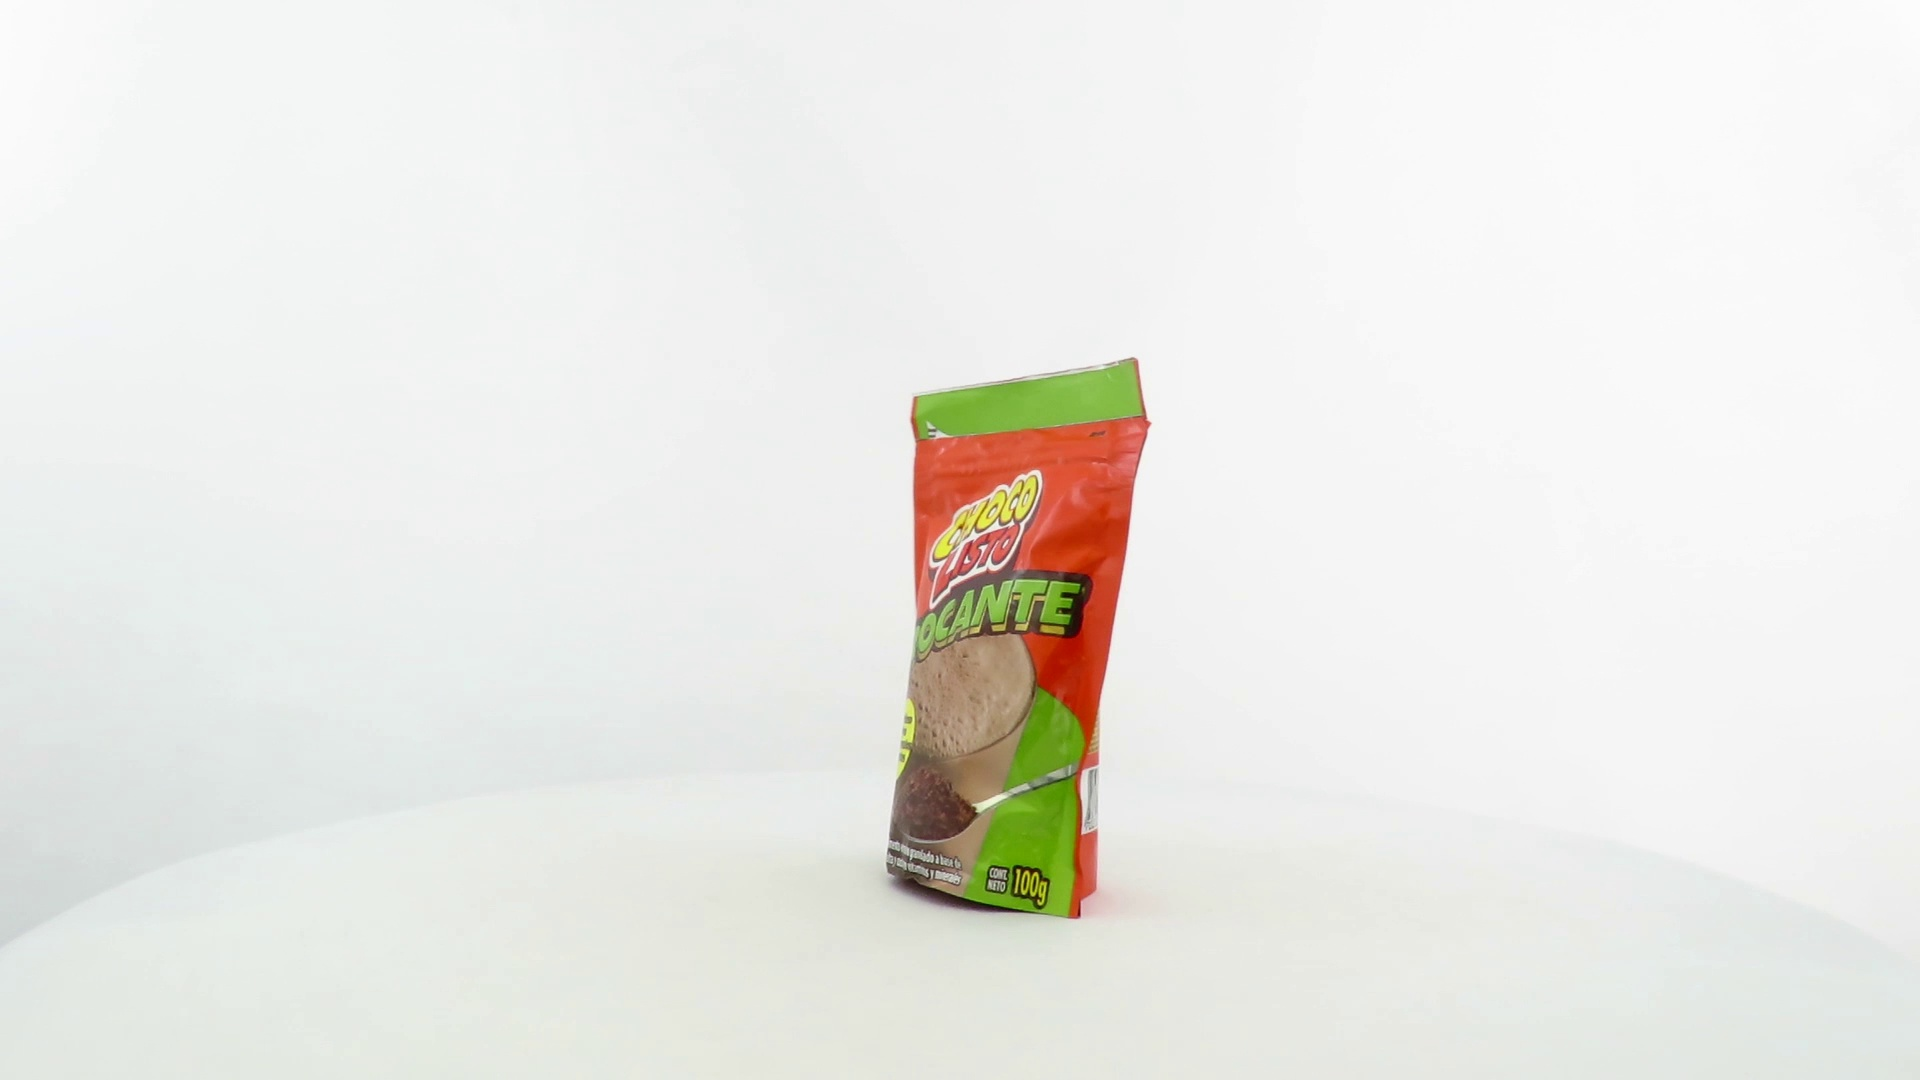COL0170102DYP10000: (881, 352, 1158, 924)
